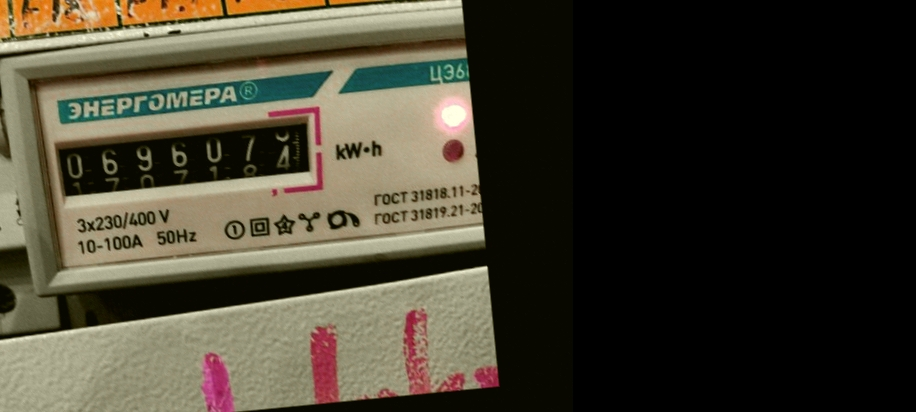0: (62, 148, 85, 180), (202, 131, 224, 163)
4: (271, 141, 292, 171)
6: (96, 143, 121, 175), (168, 137, 189, 167)
7: (237, 129, 257, 161)
9: (133, 141, 154, 172)
screen: (36, 98, 328, 215)
